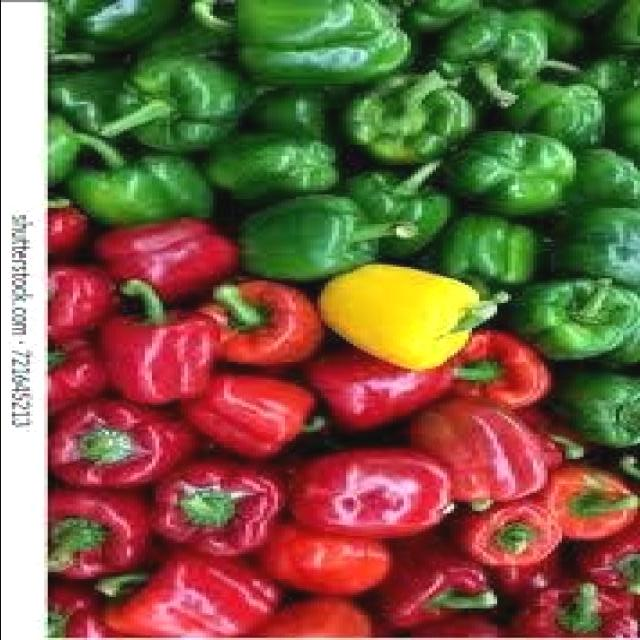bell_pepper: (177, 1, 417, 91), (242, 194, 418, 284), (81, 56, 238, 155), (500, 268, 638, 370), (439, 131, 579, 219)
